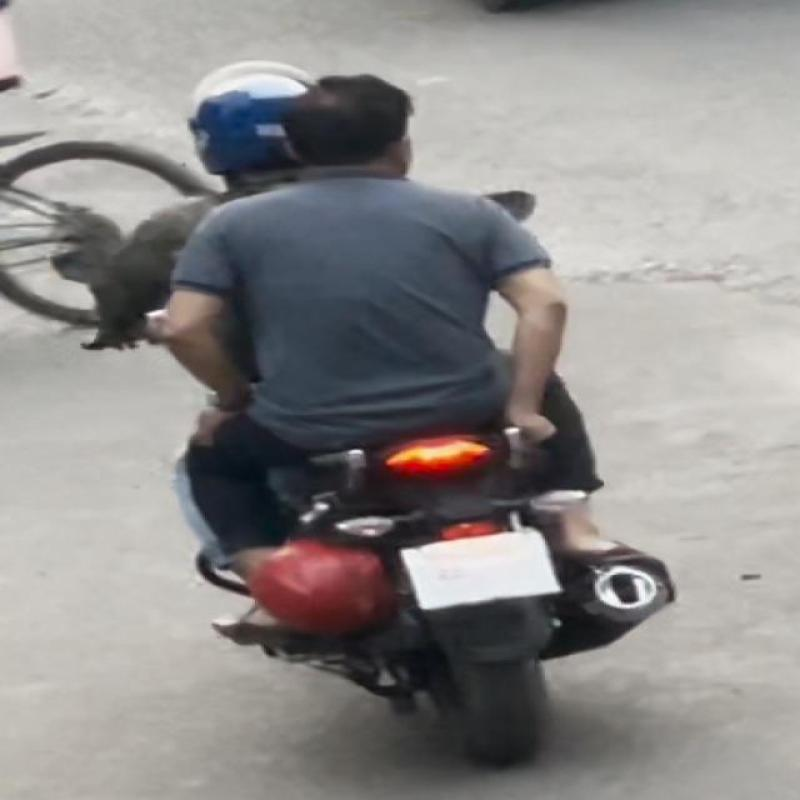nohelmet: (274, 66, 467, 172)
